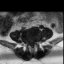CCS_severe_stenosis: (31, 40, 33, 46)
LFS_severe_stenosis: (34, 39, 36, 45)
LLS_severe_stenosis: (33, 40, 34, 45)
RFS_severe_stenosis: (27, 39, 29, 44)
RLS_severe_stenosis: (29, 39, 31, 45)
